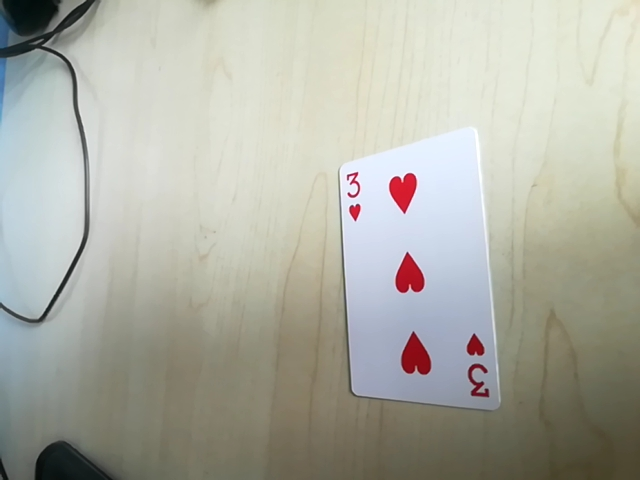hx 3: (461, 340, 499, 405), (335, 164, 367, 218)
